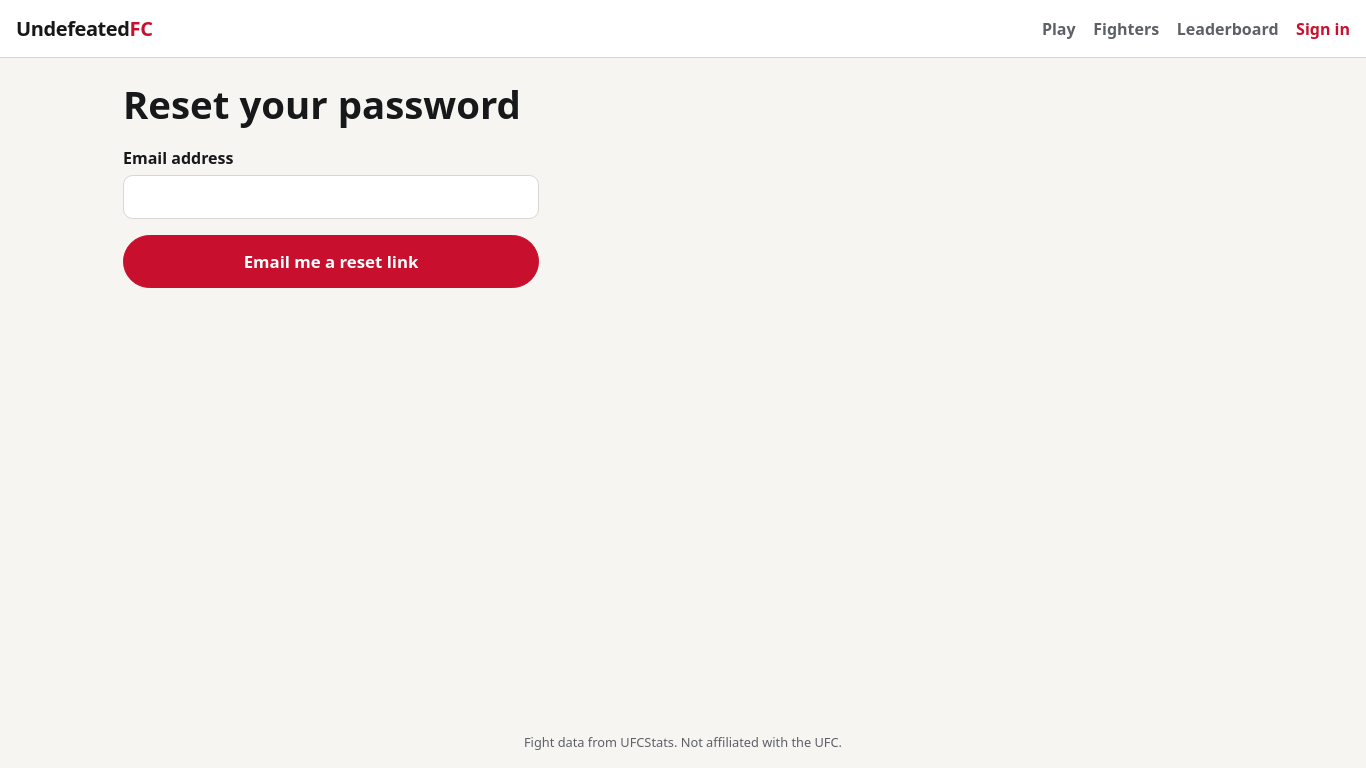
Scenario: asking for a reset link shows the same confirmation for any address
Step 1. Type "anyone@example.com" into the field labelled "Email address" → (331, 197), box x1=123 y1=175 x2=539 y2=219
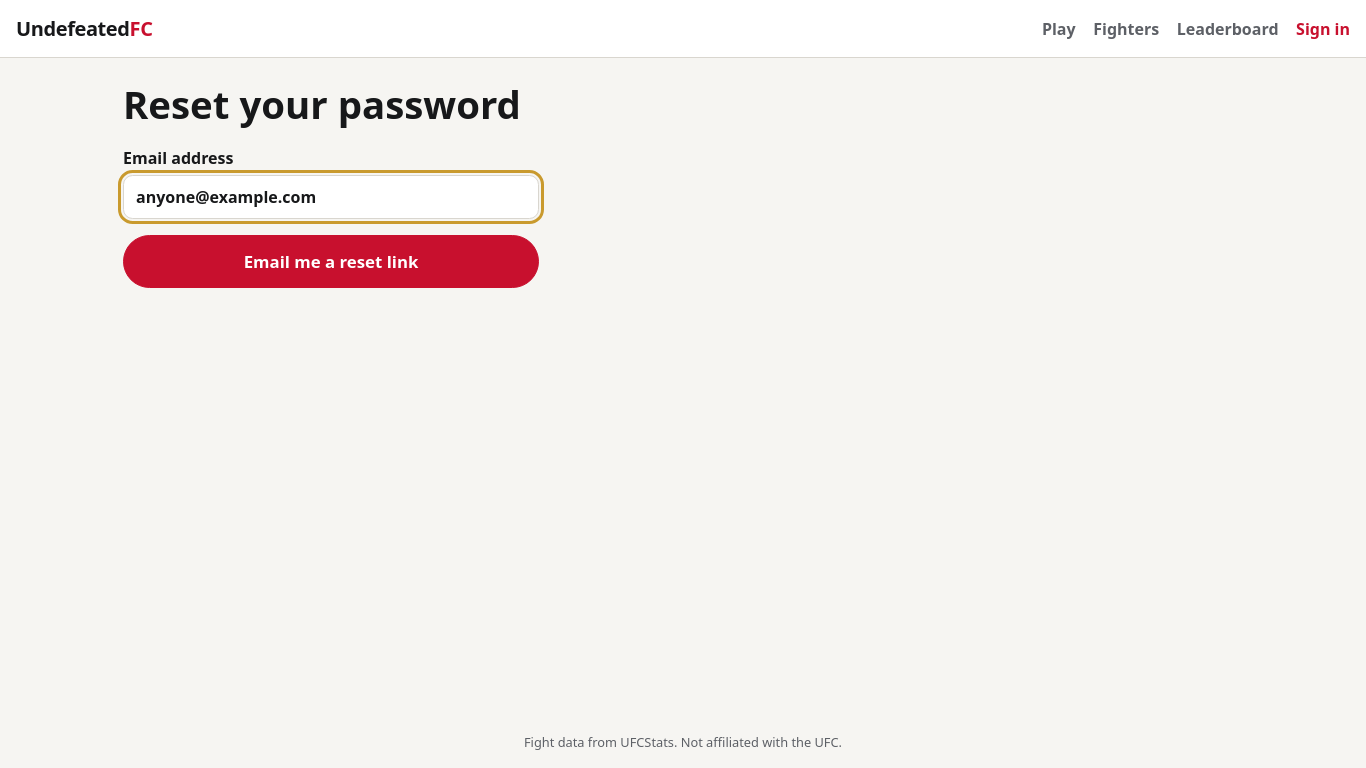
Step 2. Click the button "Email me a reset link" → (331, 261), box x1=123 y1=235 x2=539 y2=288
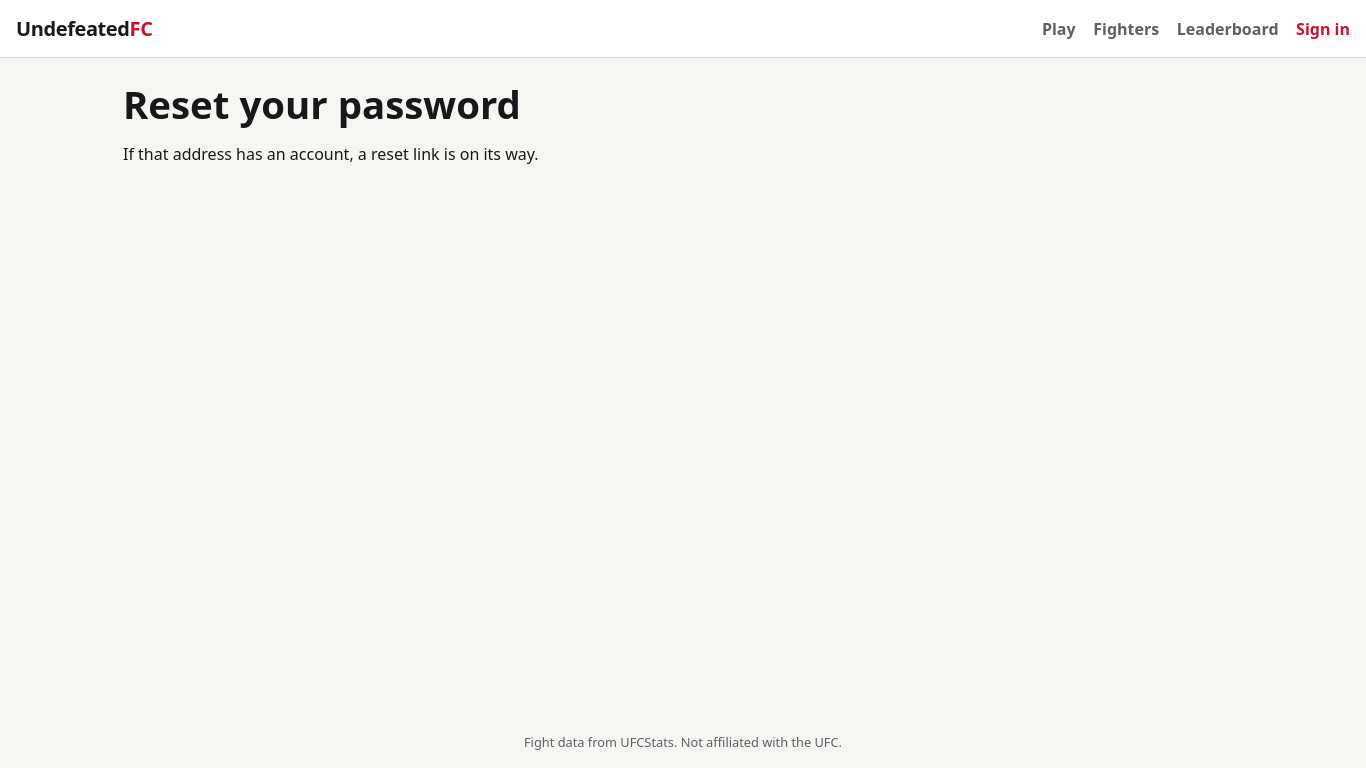
Check: the message shows "If that address has an account", box x1=123 y1=143 x2=538 y2=165
